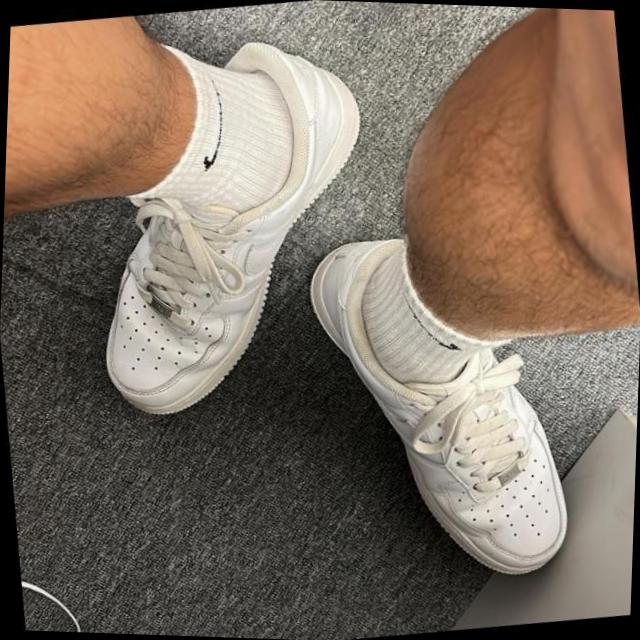nike_original_airforce: (56, 4, 401, 428), (292, 210, 588, 598)
